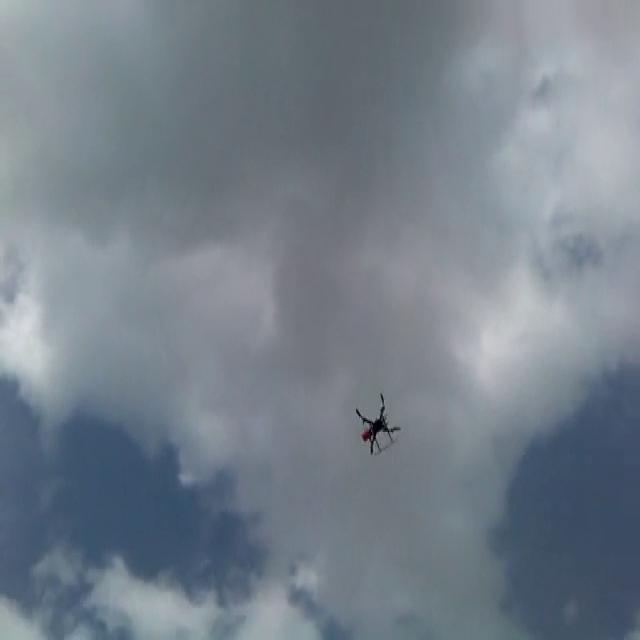drone: (354, 389, 402, 457)
